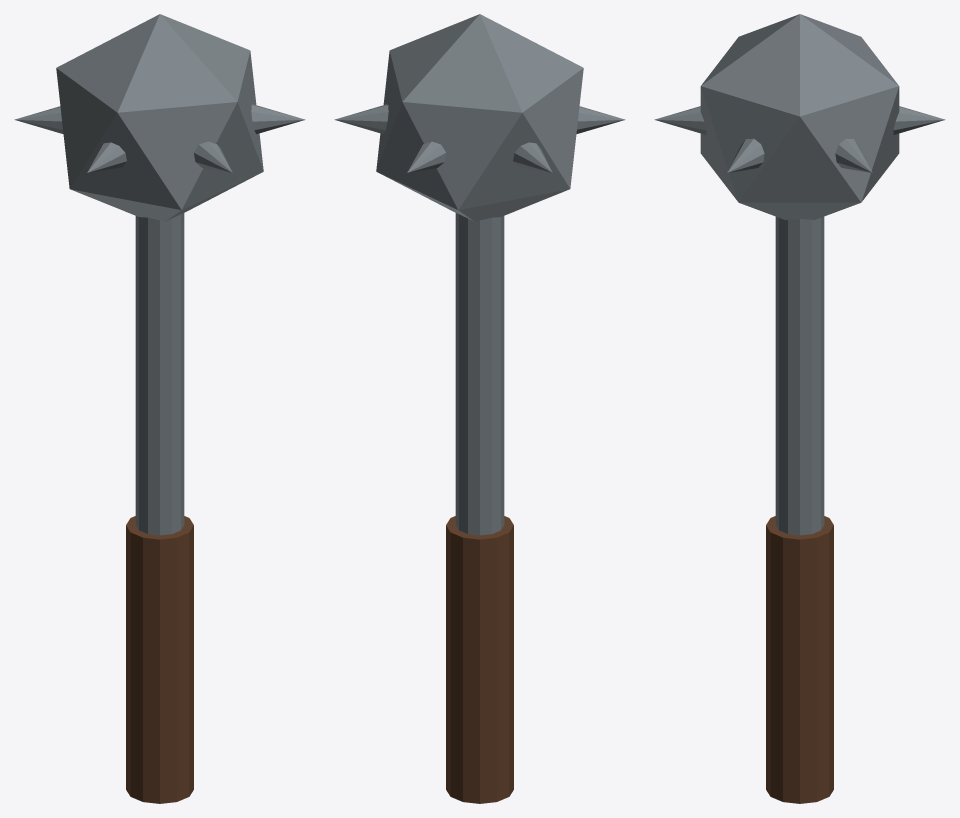
Rendered from mace.glb.
3 renders of one model, left to right at view 1: azimuth 30°, elevation 25°; view 2: azimuth 150°, elevation 25°; view 3: azimuth 270°, elevation 25°, orthographic.
Visible parts, largest first — view 1: flanged_mace_head, leather_grip, mace_shaft, mace_flange.002, mace_flange.003, mace_flange.004, mace_flange.005; view 2: flanged_mace_head, leather_grip, mace_shaft, mace_flange.001, mace_flange, mace_flange.005, mace_flange.004; view 3: flanged_mace_head, leather_grip, mace_shaft, mace_flange.001, mace_flange.002, mace_flange, mace_flange.003.
Boxes of the visible parts, x1=… form: flanged_mace_head: x1=56, y1=14, x2=263, y2=221; leather_grip: x1=126, y1=516, x2=193, y2=803; mace_shaft: x1=135, y1=213, x2=184, y2=535; mace_flange.002: x1=251, y1=104, x2=305, y2=134; mace_flange.003: x1=194, y1=141, x2=232, y2=172; mace_flange.004: x1=87, y1=142, x2=126, y2=172; mace_flange.005: x1=14, y1=106, x2=63, y2=134; flanged_mace_head: x1=376, y1=14, x2=583, y2=221; leather_grip: x1=446, y1=516, x2=513, y2=803; mace_shaft: x1=455, y1=213, x2=504, y2=535; mace_flange.001: x1=334, y1=104, x2=388, y2=134; mace_flange: x1=407, y1=141, x2=445, y2=172; mace_flange.005: x1=513, y1=142, x2=552, y2=172; mace_flange.004: x1=576, y1=106, x2=625, y2=134; flanged_mace_head: x1=700, y1=14, x2=899, y2=220; leather_grip: x1=766, y1=516, x2=833, y2=803; mace_shaft: x1=775, y1=216, x2=824, y2=535; mace_flange.001: x1=835, y1=138, x2=872, y2=172; mace_flange.002: x1=727, y1=138, x2=764, y2=172; mace_flange: x1=893, y1=106, x2=945, y2=134; mace_flange.003: x1=654, y1=106, x2=706, y2=134.
Size of the model in its own units: 0.2598 by 0.88 by 0.3.
